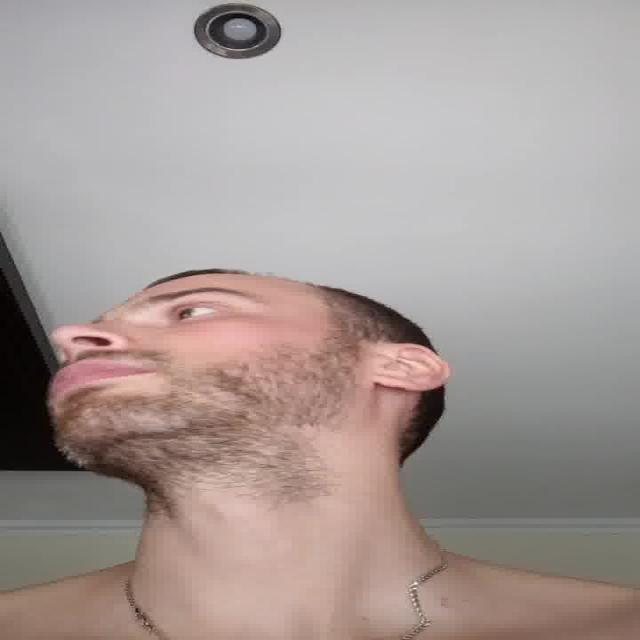earlobe: (368, 346, 452, 392)
